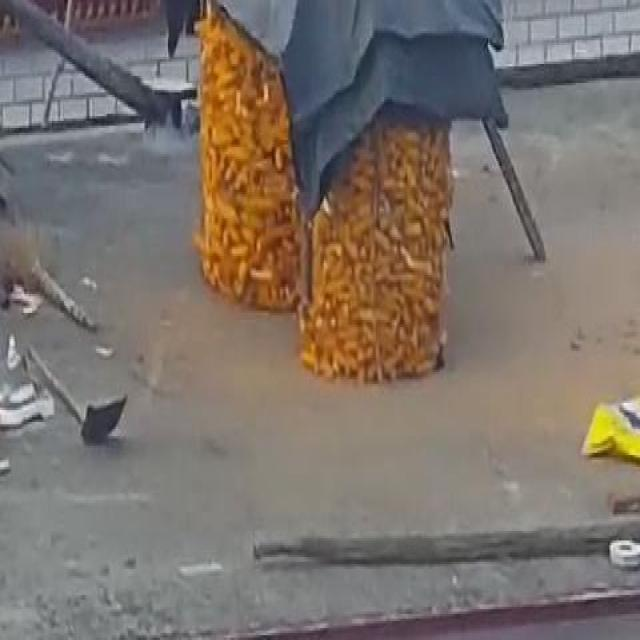other: (201, 24, 485, 406), (571, 372, 636, 480)
